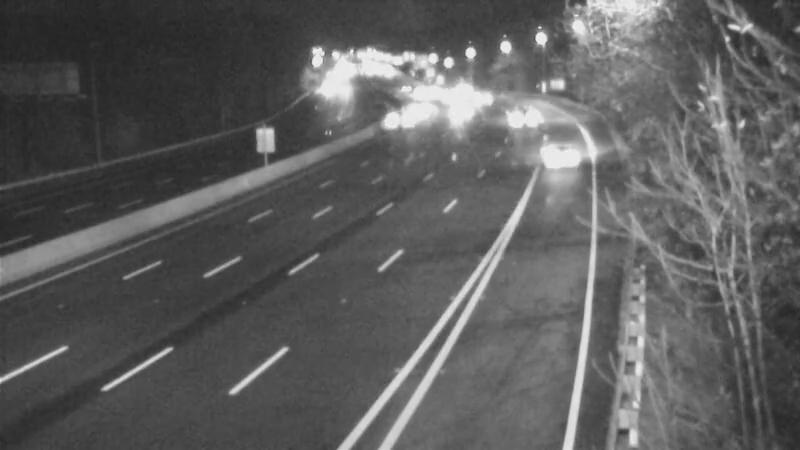vehicle: (522, 118, 602, 198), (455, 71, 505, 121), (395, 83, 445, 133), (437, 87, 487, 137), (492, 83, 542, 133), (374, 96, 424, 146)
